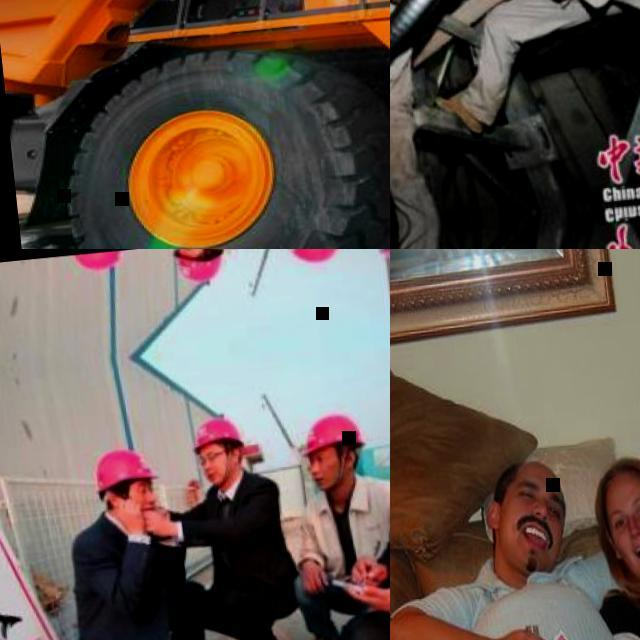Helmet: (280, 411, 371, 457), (87, 447, 167, 495), (167, 247, 235, 290), (284, 241, 349, 276), (73, 253, 135, 278)
Robbery: (391, 438, 569, 640), (270, 387, 388, 640), (178, 413, 304, 640), (443, 0, 617, 135), (78, 441, 196, 640), (584, 438, 639, 640)
